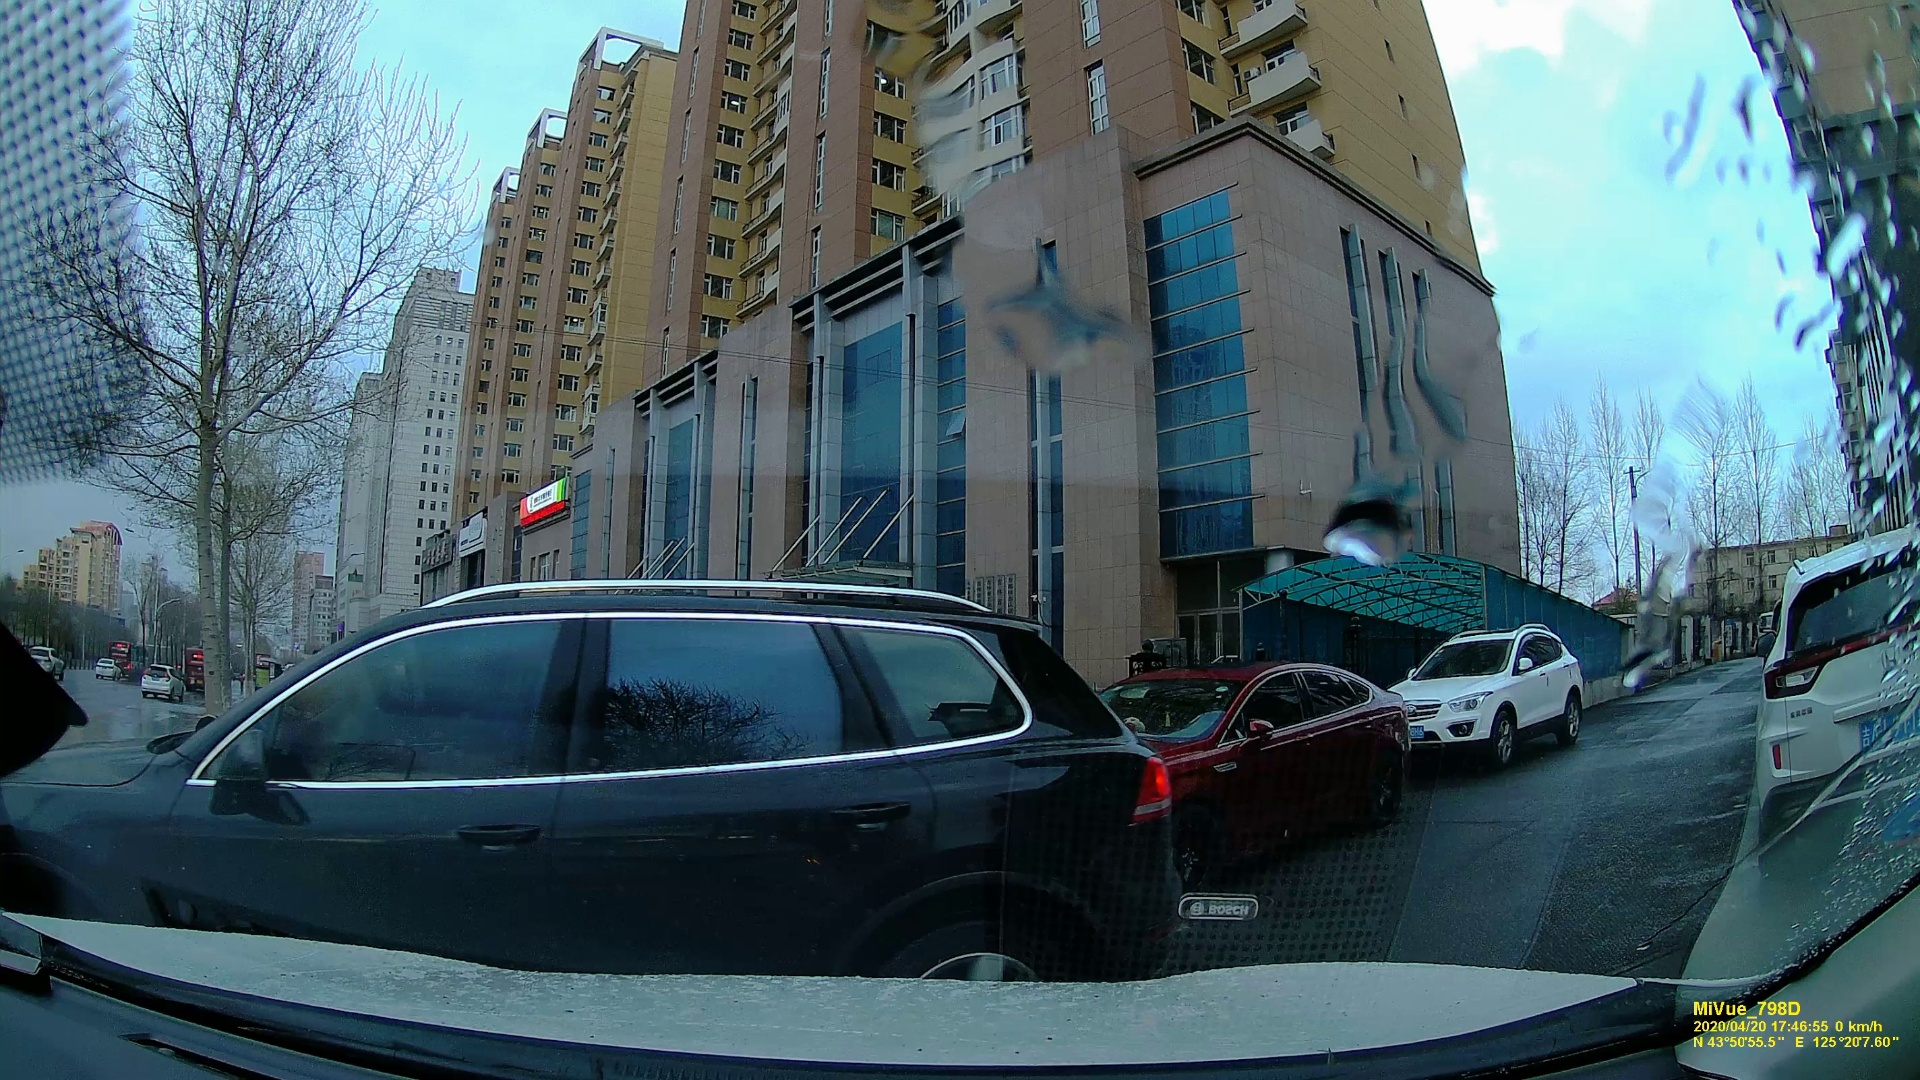vehicle: (3, 607, 1164, 956), (1095, 655, 1436, 818), (1749, 543, 1916, 814), (1389, 622, 1590, 757), (135, 666, 178, 700)
